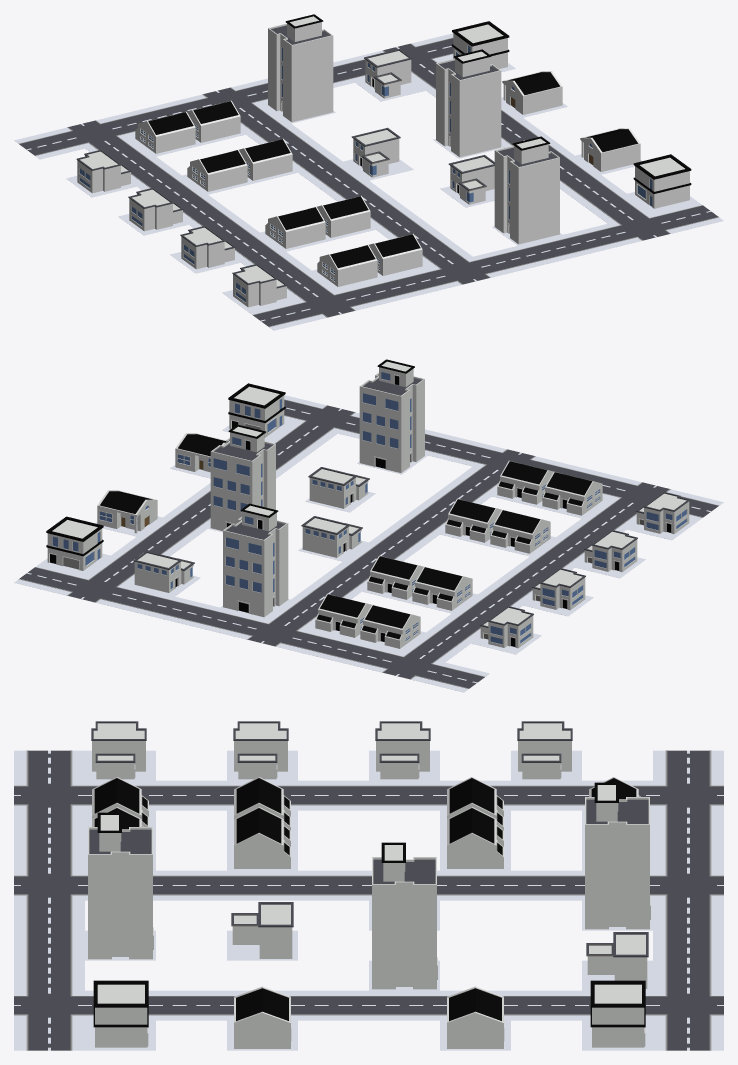
File: Sincerra.obj
3 renders of one model, top to bottom at view 1: azimuth 30°, elevation 25°; view 2: azimuth 150°, elevation 25°; view 3: azimuth 270°, elevation 25°, orthographic. The views are drawn at different scales.
Parts seen in each view (by area): view 1: Sincerra_City.2015; view 2: Sincerra_City.2015; view 3: Sincerra_City.2015.
Boxes of the visible parts, x1,y1,x2,y2 form: Sincerra_City.2015: (14,14,723,330); Sincerra_City.2015: (14,359,723,692); Sincerra_City.2015: (14,721,723,1050).
Bounding box in the file's own units: 10 × 1.92 × 10.
